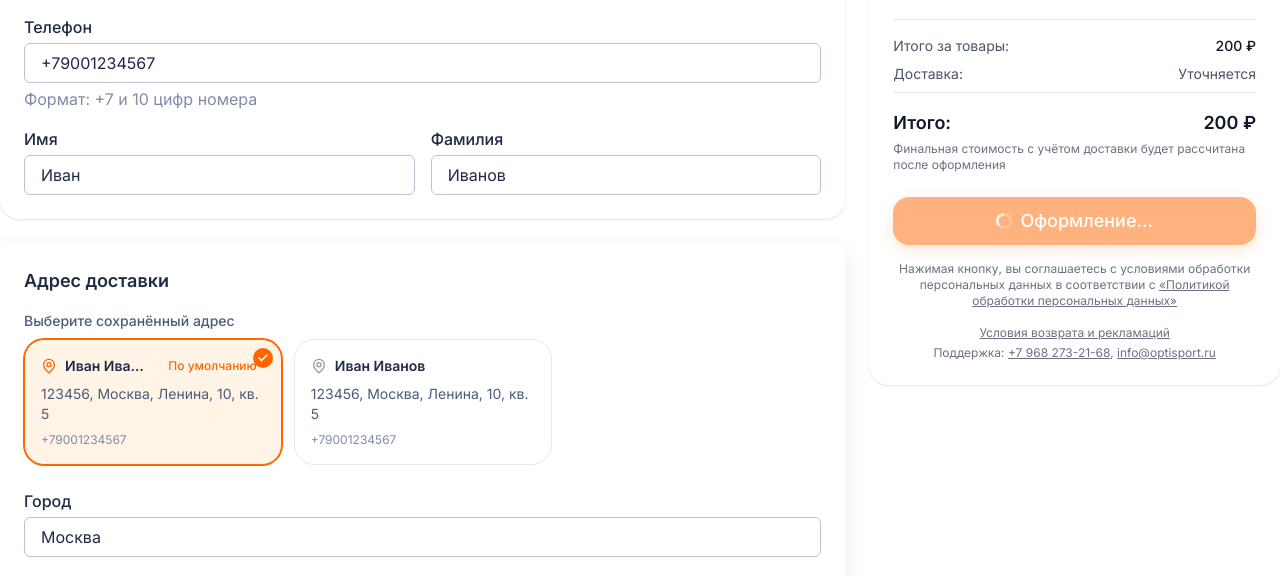
Test: CheckoutForm › Address loading и автозаполнение из API (spec checkout-address-ux) › выбор другого адреса в селекторе перезаписывает поля формы
The image size is (1280, 576).
Expected: the field labelled "Город" holds "Москва", [24,517,821,557]
What coordinates should you click on to do the following:
click the radio button with test id "address-card-option"
I would click on:
 (423, 402)
Its box is [294,339,552,465].
(page scrolled)
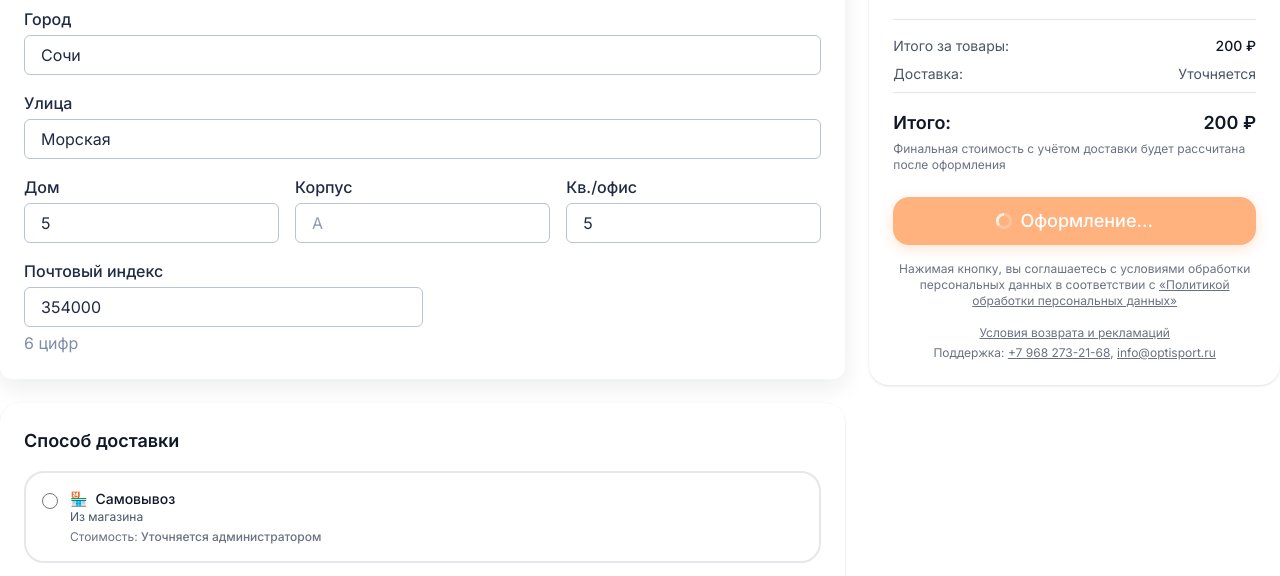
Expected: the field labelled "Город" holds "Сочи", [24,35,821,75]
Expected: the field labelled "Дом" holds "5", [24,203,279,243]
